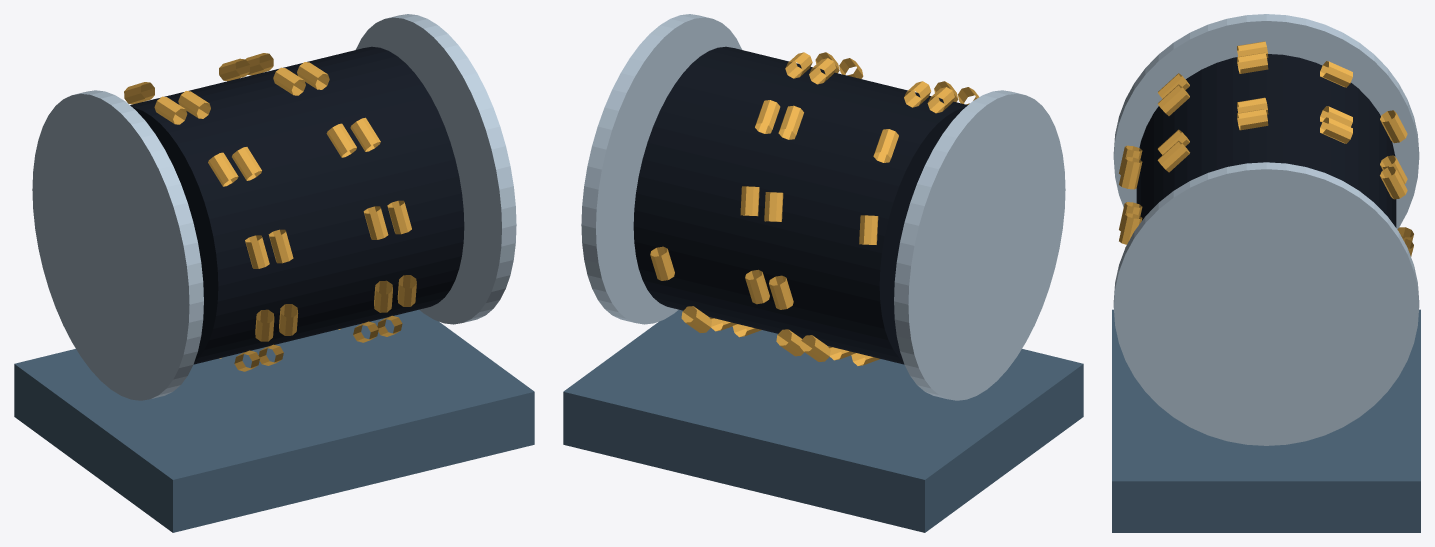
File: 77_L92_TetherRetrievalWinch.fbx
The picture shows the model from 3 angles, left to right: view 1: azimuth 30°, elevation 25°; view 2: azimuth 150°, elevation 25°; view 3: azimuth 270°, elevation 25°; orthographic projection. The views are drawn at different scales.
Parts seen in each view (by area): view 1: L92_TetherRetrievalWinch, L92_TetherRetrievalWinch_Part_0001, L92_TetherRetrievalWinch_Part_0003, L92_TetherRetrievalWinch_Part_0002; view 2: L92_TetherRetrievalWinch, L92_TetherRetrievalWinch_Part_0001, L92_TetherRetrievalWinch_Part_0002, L92_TetherRetrievalWinch_Part_0003; view 3: L92_TetherRetrievalWinch, L92_TetherRetrievalWinch_Part_0001, L92_TetherRetrievalWinch_Part_0003, L92_TetherRetrievalWinch_Part_0002.
Boxes of the visible parts, left/top/right/bottom form: L92_TetherRetrievalWinch: left=14, top=14, right=534, bottom=532; L92_TetherRetrievalWinch_Part_0001: left=130, top=46, right=464, bottom=364; L92_TetherRetrievalWinch_Part_0003: left=124, top=53, right=416, bottom=365; L92_TetherRetrievalWinch_Part_0002: left=154, top=58, right=392, bottom=371; L92_TetherRetrievalWinch: left=563, top=14, right=1083, bottom=532; L92_TetherRetrievalWinch_Part_0001: left=633, top=46, right=967, bottom=364; L92_TetherRetrievalWinch_Part_0002: left=650, top=58, right=978, bottom=365; L92_TetherRetrievalWinch_Part_0003: left=710, top=52, right=958, bottom=360; L92_TetherRetrievalWinch: left=1112, top=14, right=1420, bottom=532; L92_TetherRetrievalWinch_Part_0001: left=1136, top=54, right=1396, bottom=227; L92_TetherRetrievalWinch_Part_0003: left=1119, top=52, right=1413, bottom=256; L92_TetherRetrievalWinch_Part_0002: left=1119, top=41, right=1413, bottom=241.
Size of the model in its own units: 250 by 242 by 190.
